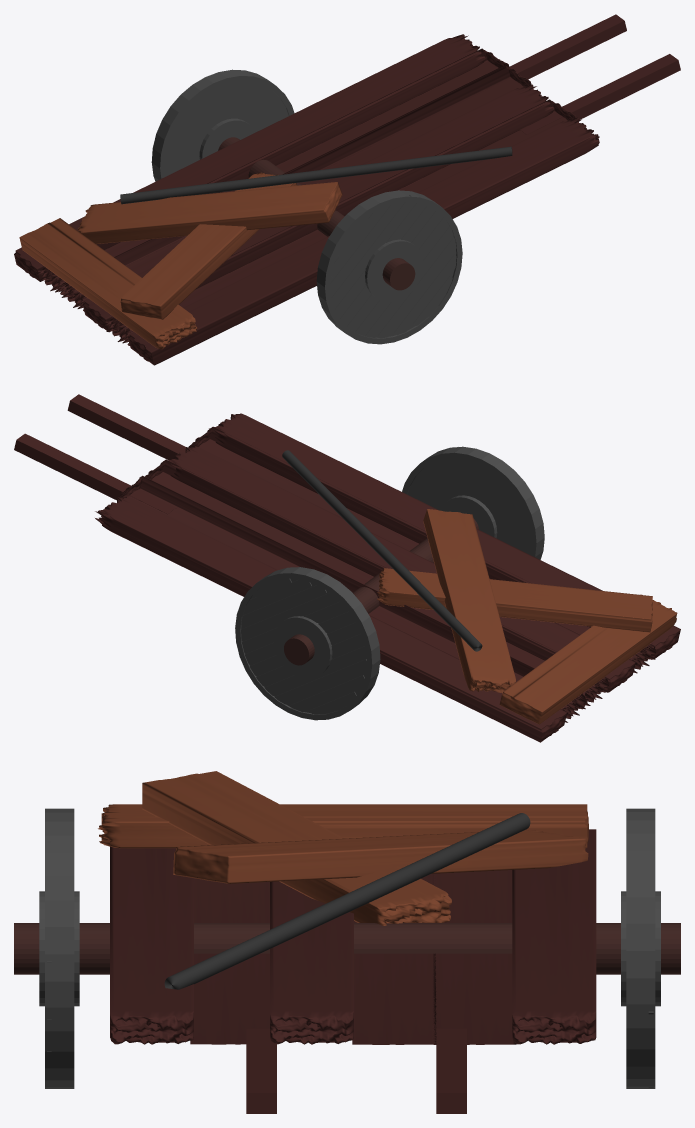
File: pavozka.fbx
3 renders of one model, top to bottom at view 1: azimuth 30°, elevation 25°; view 2: azimuth 150°, elevation 25°; view 3: azimuth 270°, elevation 25°, orthographic. The views are drawn at different scales.
Parts seen in each view (by area): view 1: Cylinder.001; view 2: Cylinder.001; view 3: Cylinder.001.
Boxes of the visible parts, x1,y1,x2,y2 form: Cylinder.001: [14, 14, 680, 365]; Cylinder.001: [14, 394, 680, 742]; Cylinder.001: [14, 771, 680, 1113].
Size of the model in its own units: 66.2 by 17.36 by 37.9.
